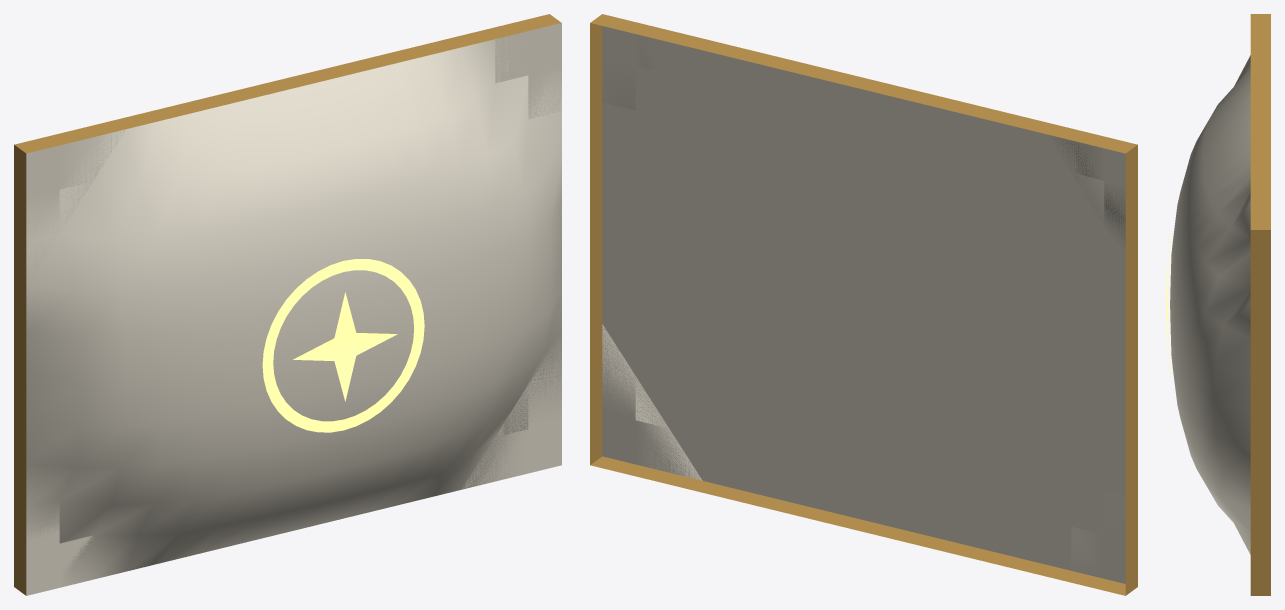
File: warden_plate.glb
3 views of the same model, side by side, from view 1: azimuth 30°, elevation 25°; view 2: azimuth 150°, elevation 25°; view 3: azimuth 270°, elevation 25° (orthographic). The views are drawn at different scales.
Visible parts, largest first — view 1: warden_plate; view 2: warden_plate; view 3: warden_plate.
Part boxes in pixels (box(x1,y1,x2,y2)): warden_plate: box(14, 14, 561, 595); warden_plate: box(590, 14, 1137, 595); warden_plate: box(1166, 14, 1270, 595).
Size of the model in its own units: 0.76 by 0.6 by 0.156.
